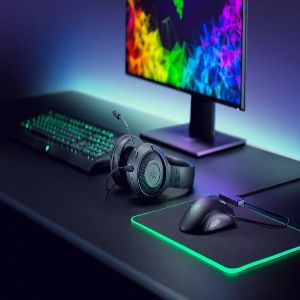headset: (110, 110, 199, 191)
keyboard: (15, 107, 135, 173)
mouse: (178, 195, 241, 236)
